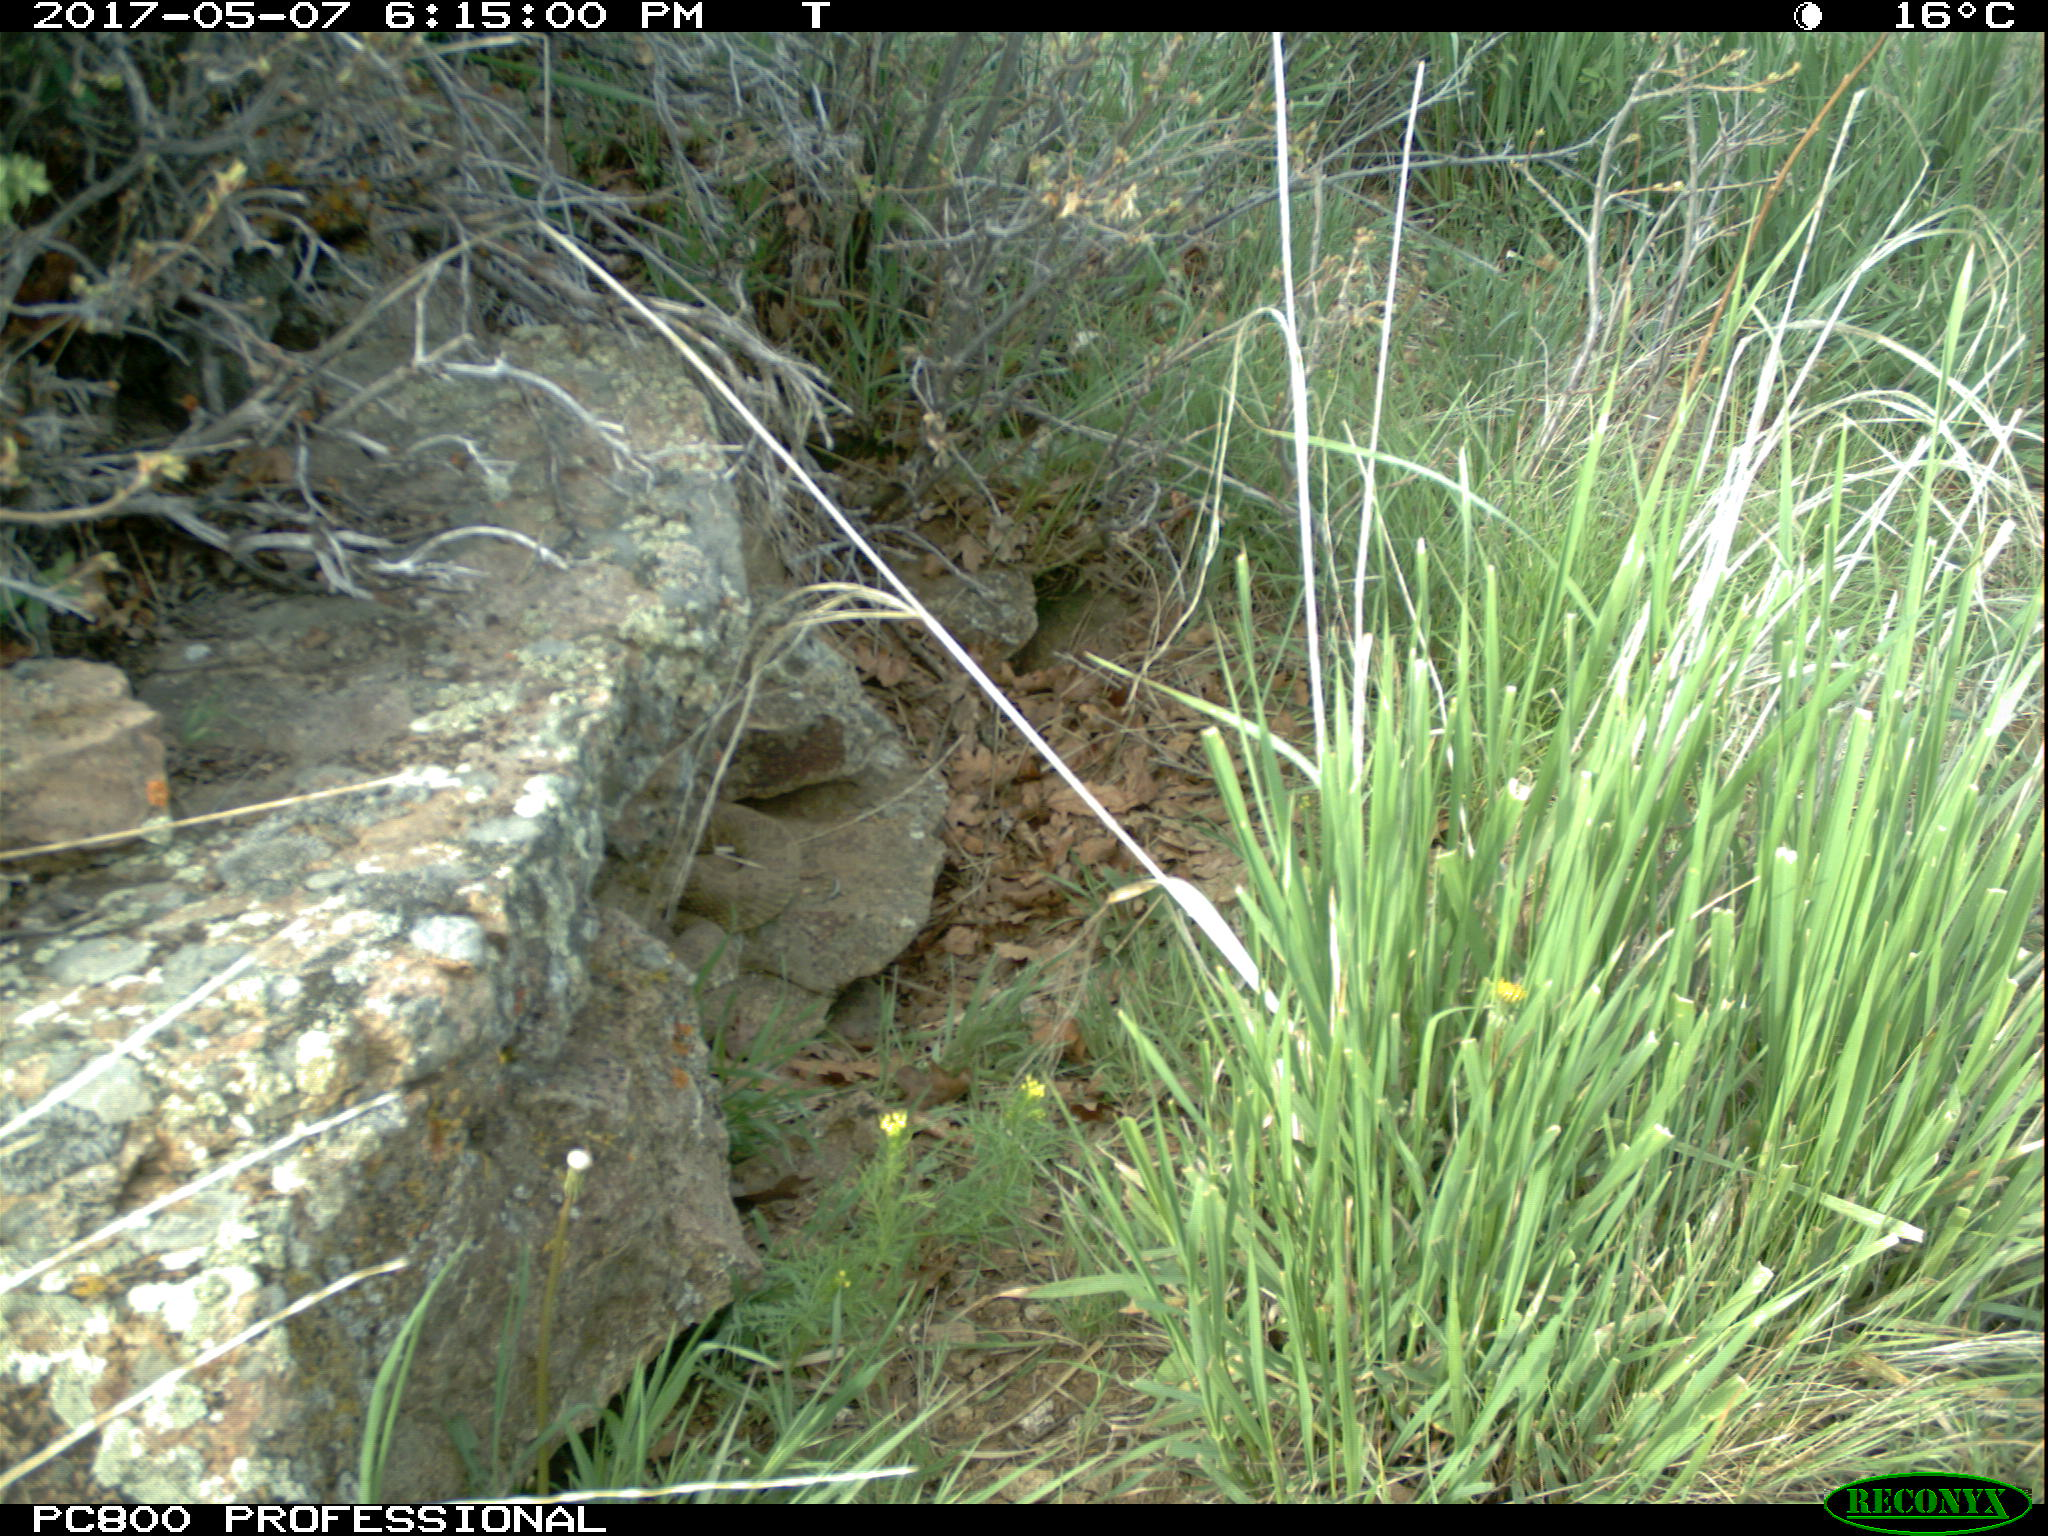snake: (676, 799, 813, 942)
